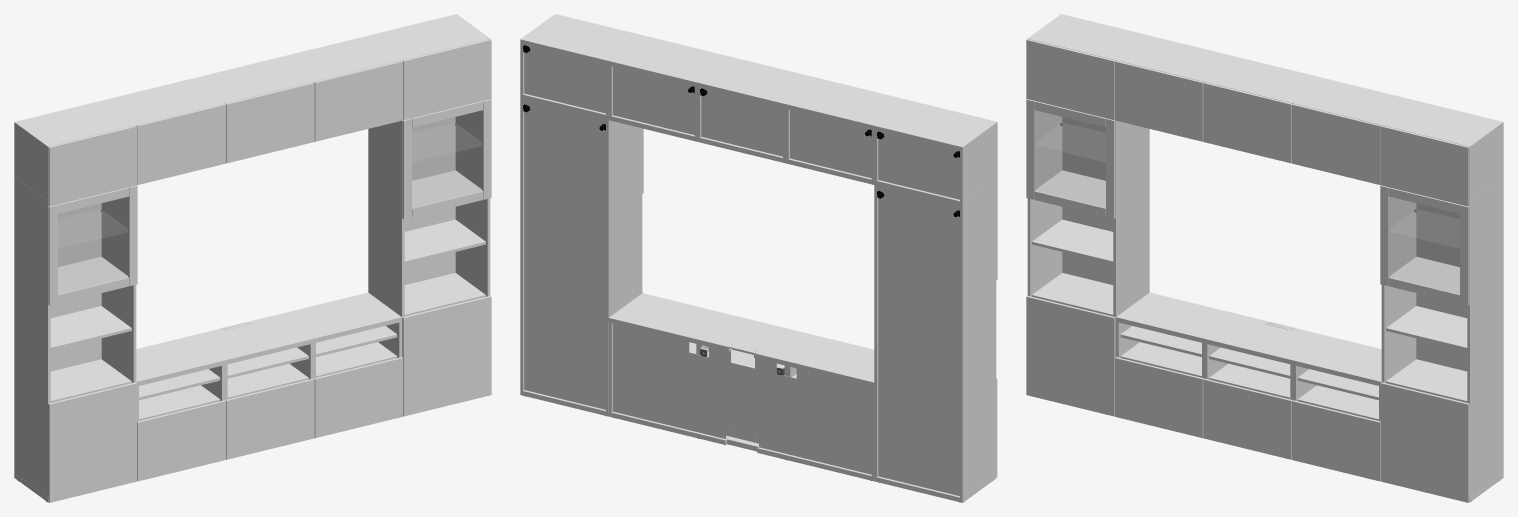
The model's file is besta_kombinacja_na_tv_szklane_drzwi_59411009.glb.
3 renders of one model, left to right at view 1: azimuth 30°, elevation 25°; view 2: azimuth 150°, elevation 25°; view 3: azimuth 330°, elevation 25°, orthographic.
Parts seen in each view (by area): view 1: besta_kombinacja_na_tv_szklane_drzwi_59411009; view 2: besta_kombinacja_na_tv_szklane_drzwi_59411009; view 3: besta_kombinacja_na_tv_szklane_drzwi_59411009.
Part boxes in pixels (box(x1,y1,x2,y2)): besta_kombinacja_na_tv_szklane_drzwi_59411009: box(14, 14, 491, 502); besta_kombinacja_na_tv_szklane_drzwi_59411009: box(520, 14, 997, 502); besta_kombinacja_na_tv_szklane_drzwi_59411009: box(1026, 14, 1503, 502).
Bounding box in the file's own units: 3 × 2.31 × 0.4252.
Materials: 2 (2 with a texture image).
